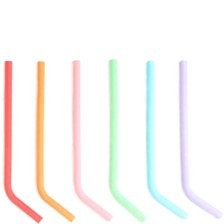drinking_straw: (25, 58, 78, 224), (172, 57, 224, 224), (104, 56, 151, 224)
